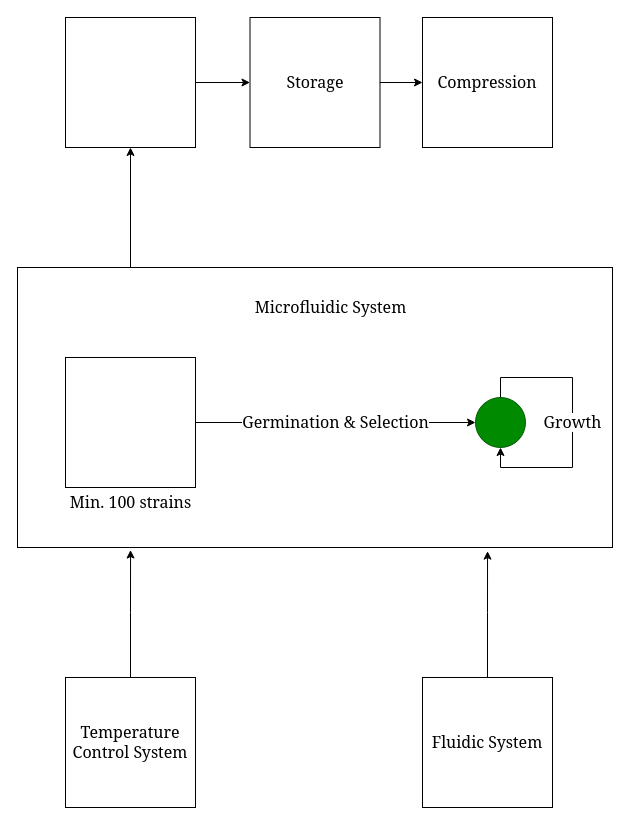
This 630x825 diagram has some shape labels left out. Here are the shapes that lost their labels. From the top down, the centre of each, then its label:
At [130,82]: "Imaging System".
At [130,422]: "Biomolecular System".
